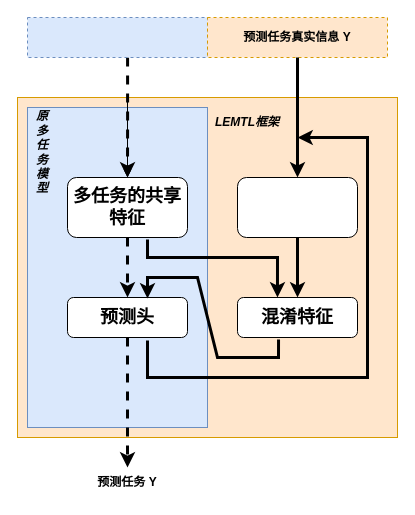
Some shapes in this 415 by 515 pixel diagram are drawn without their labels. The centre of each missing label's shape, as x and y in pixels:
"可学习轻量级模块" belongs at (x=297, y=207).
"输入数据 X" belongs at (x=117, y=37).
